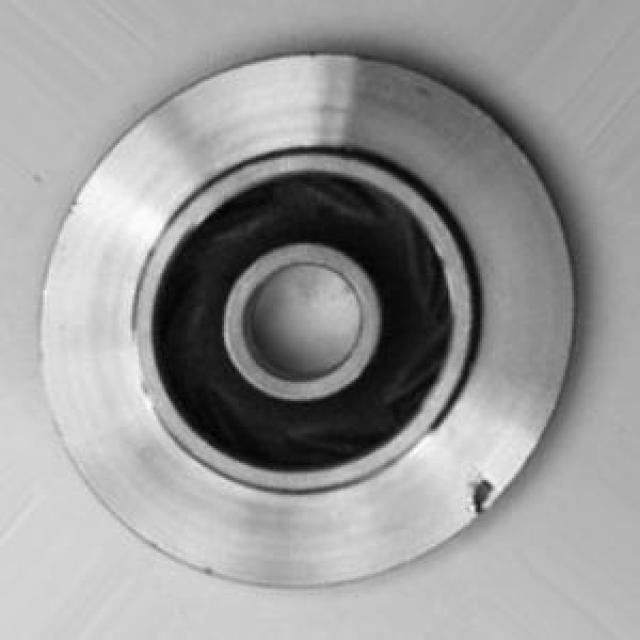Defect: (461, 467, 502, 524)
